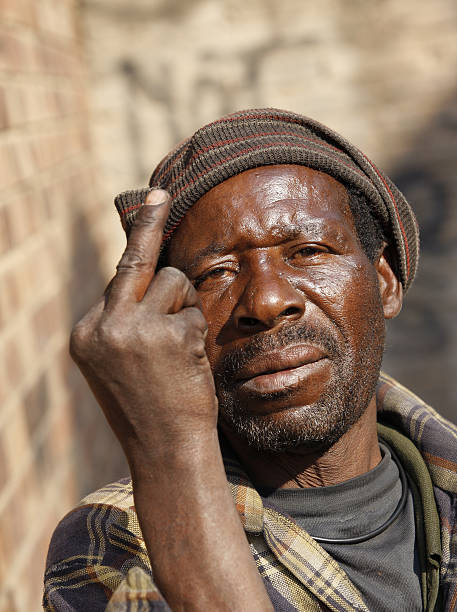insulting_gesture: (68, 189, 221, 441)
